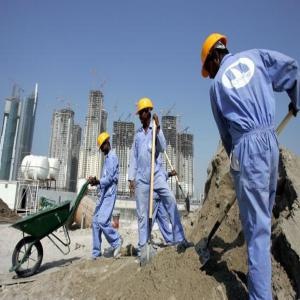yellow: (202, 34, 229, 80), (138, 99, 154, 125), (98, 134, 112, 155)
